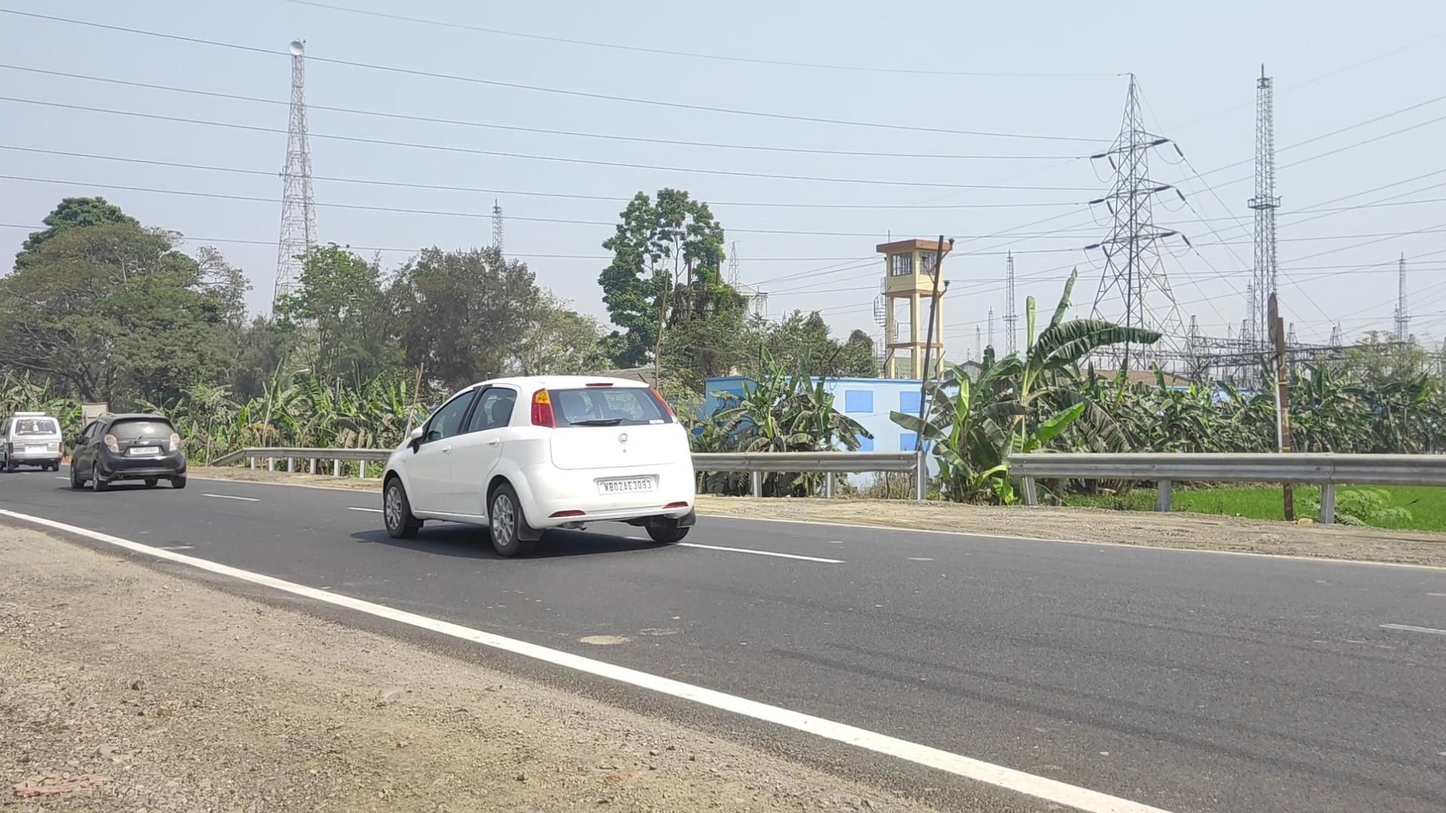car: (382, 375, 696, 559), (69, 413, 187, 492)
van: (1, 411, 63, 474)
